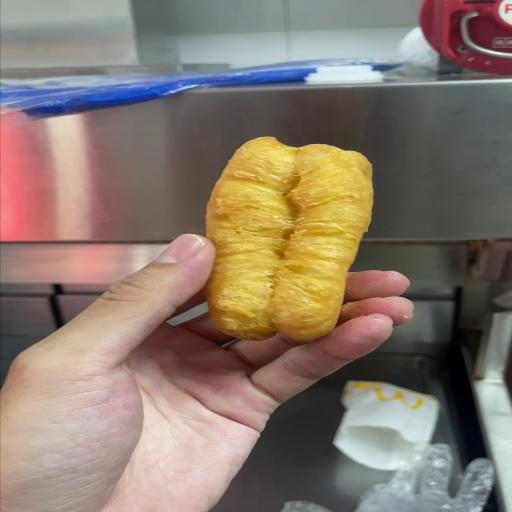brand_golden_good: (207, 137, 373, 341)
